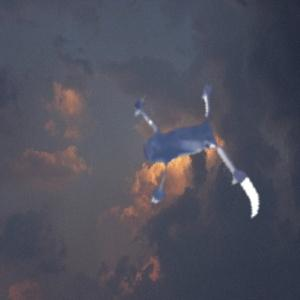drone: (84, 65, 278, 259)
